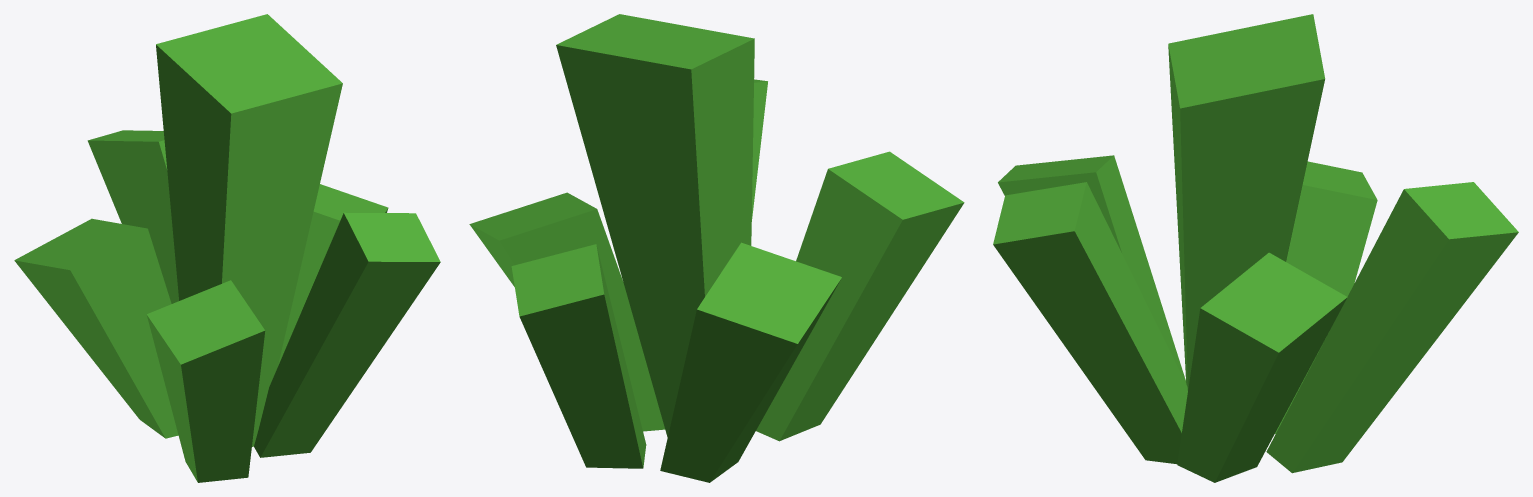
The model's file is Grass_10.fbx.
The picture shows the model from 3 angles, left to right: view 1: azimuth 30°, elevation 25°; view 2: azimuth 150°, elevation 25°; view 3: azimuth 270°, elevation 25°; orthographic projection. The views are drawn at different scales.
Visible parts, largest first — view 1: Grass_10; view 2: Grass_10; view 3: Grass_10.
Boxes of the visible parts, x1,y1,x2,y2 form: Grass_10: (14, 14, 440, 482); Grass_10: (469, 14, 964, 482); Grass_10: (993, 14, 1518, 482).
Bounding box in the file's own units: 55.28 × 58.33 × 68.69.
